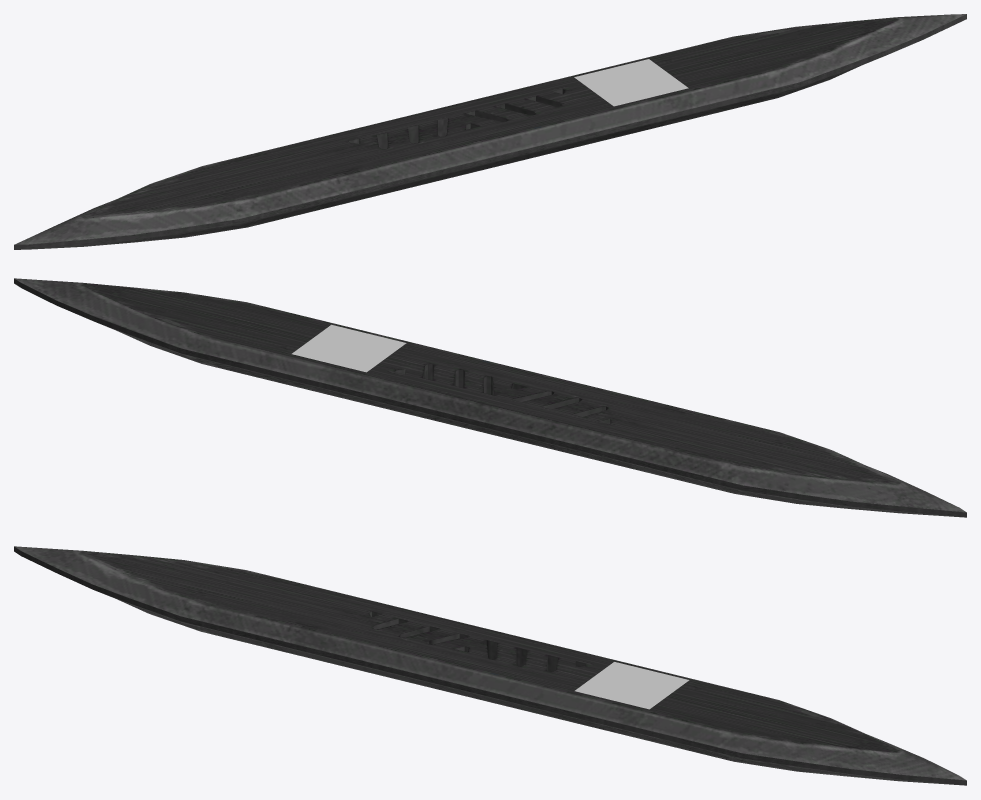
Rendered from t6_wpn_ballistic_knife_projectile_LOD0.obj.
3 views of the same model, one above another, from view 1: azimuth 30°, elevation 25°; view 2: azimuth 150°, elevation 25°; view 3: azimuth 330°, elevation 25° (orthographic).
Visible parts, largest first — view 1: mtl_t6_wpn_ballistic_knife_camo1, mtl_t6_wpn_ballistic_knife_camo2, mtl_player_icon; view 2: mtl_t6_wpn_ballistic_knife_camo1, mtl_t6_wpn_ballistic_knife_camo2, mtl_player_icon; view 3: mtl_t6_wpn_ballistic_knife_camo1, mtl_t6_wpn_ballistic_knife_camo2, mtl_player_icon.
Part boxes in pixels (box(x1,y1,x2,y2)): mtl_t6_wpn_ballistic_knife_camo1: box(14, 14, 966, 249); mtl_t6_wpn_ballistic_knife_camo2: box(14, 14, 966, 249); mtl_player_icon: box(574, 59, 688, 106); mtl_t6_wpn_ballistic_knife_camo1: box(14, 278, 966, 517); mtl_t6_wpn_ballistic_knife_camo2: box(14, 278, 966, 517); mtl_player_icon: box(292, 324, 406, 372); mtl_t6_wpn_ballistic_knife_camo1: box(14, 546, 966, 785); mtl_t6_wpn_ballistic_knife_camo2: box(14, 546, 966, 785); mtl_player_icon: box(575, 662, 689, 709).
Size of the model in its own units: 31.37 by 0.9117 by 3.33.
